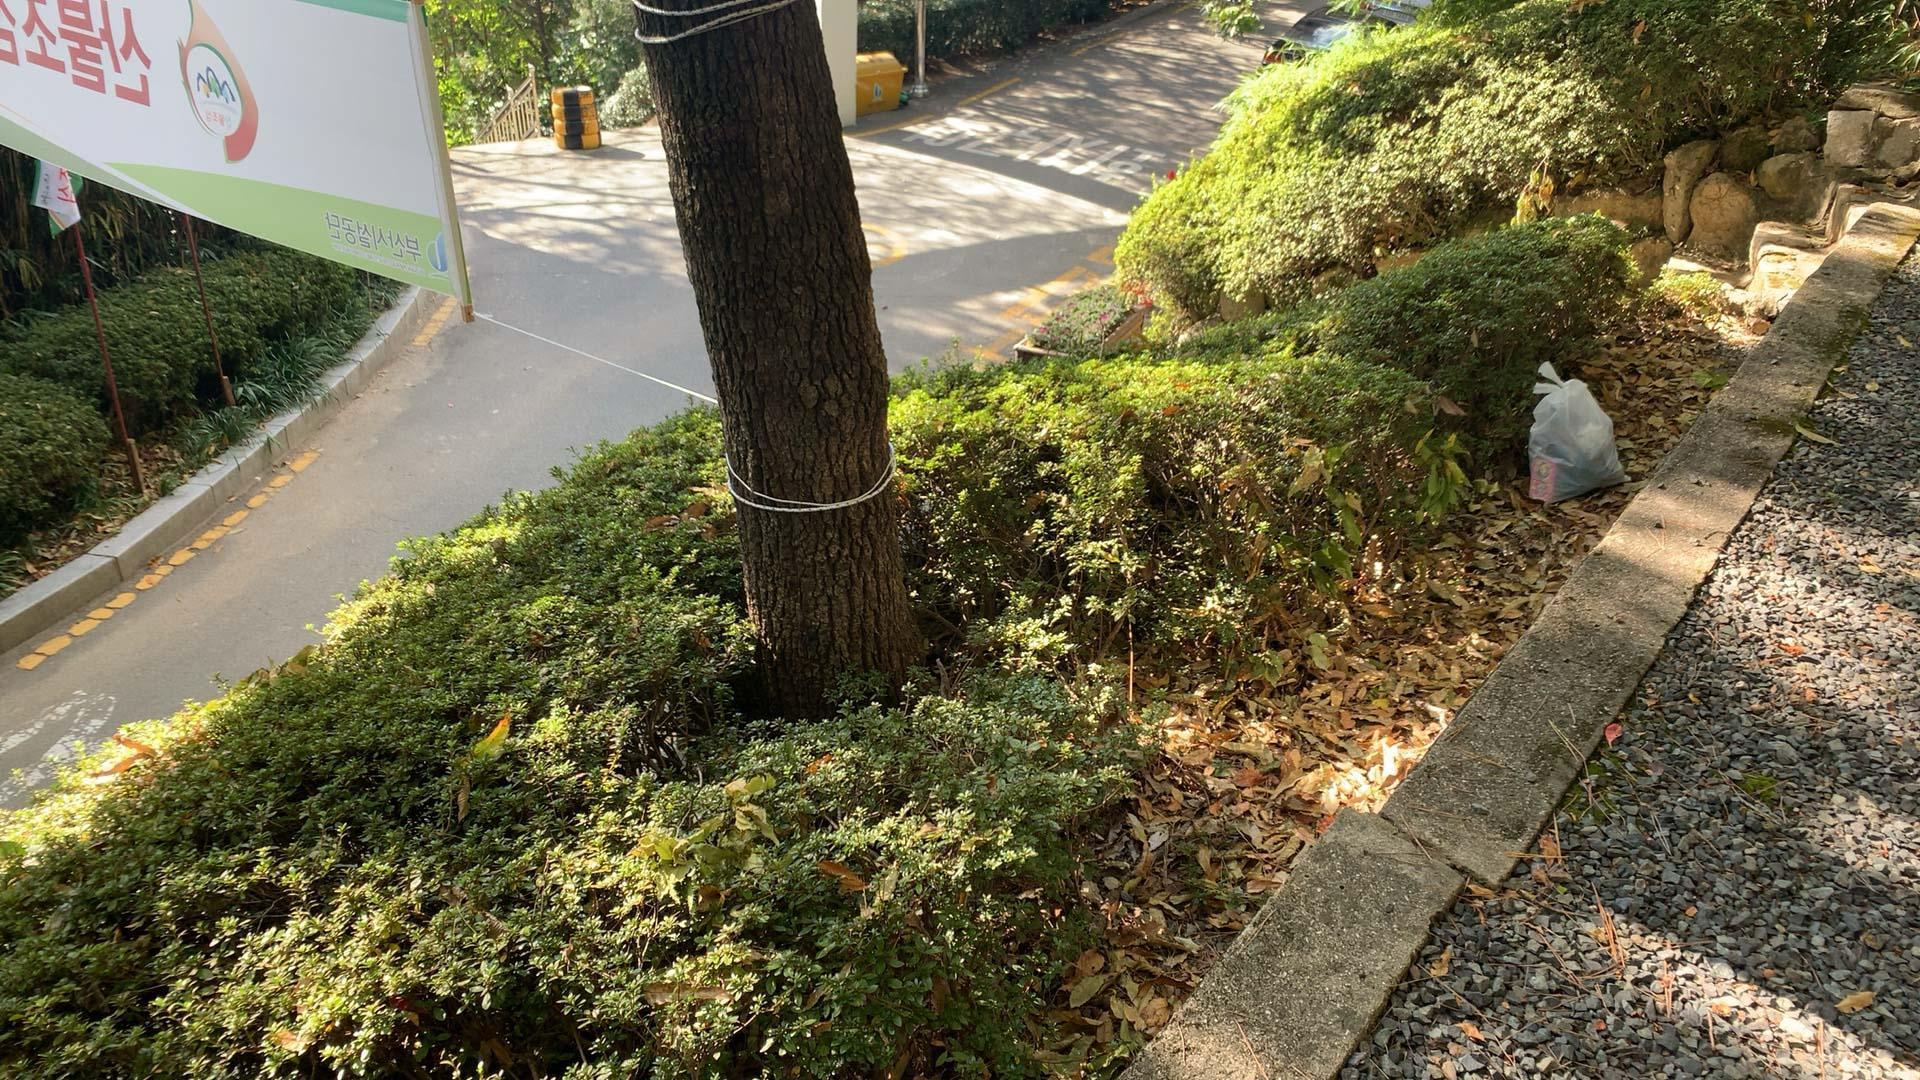white_bag: (1519, 353, 1636, 502)
